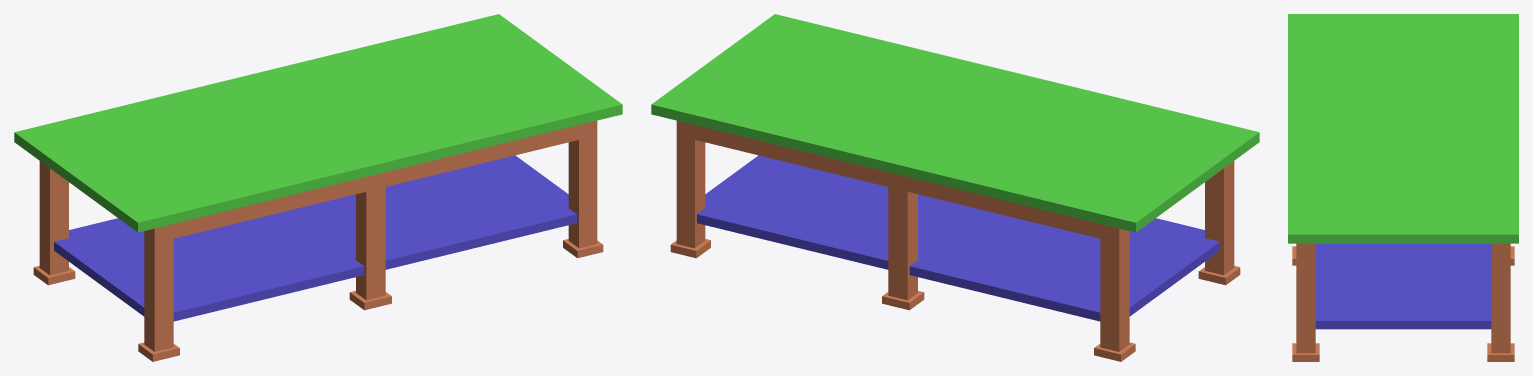
Rendered from table.fbx.
3 views of the same model, side by side, from view 1: azimuth 30°, elevation 25°; view 2: azimuth 150°, elevation 25°; view 3: azimuth 270°, elevation 25° (orthographic). The views are drawn at different scales.
Visible parts, largest first — view 1: Legs_1; view 2: Legs_1; view 3: Legs_1.
Boxes of the visible parts, x1,y1,x2,y2 form: Legs_1: [14, 14, 622, 361]; Legs_1: [651, 14, 1259, 361]; Legs_1: [1288, 14, 1518, 361].
Size of the model in its own units: 243 by 157 by 551.
